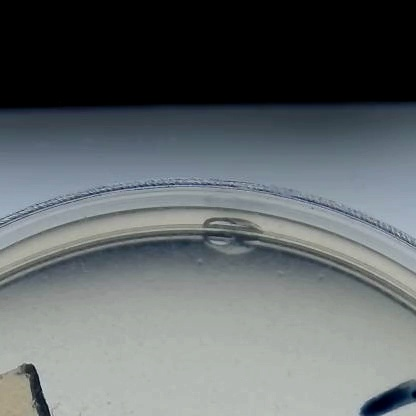worm: (52, 400, 64, 414)
